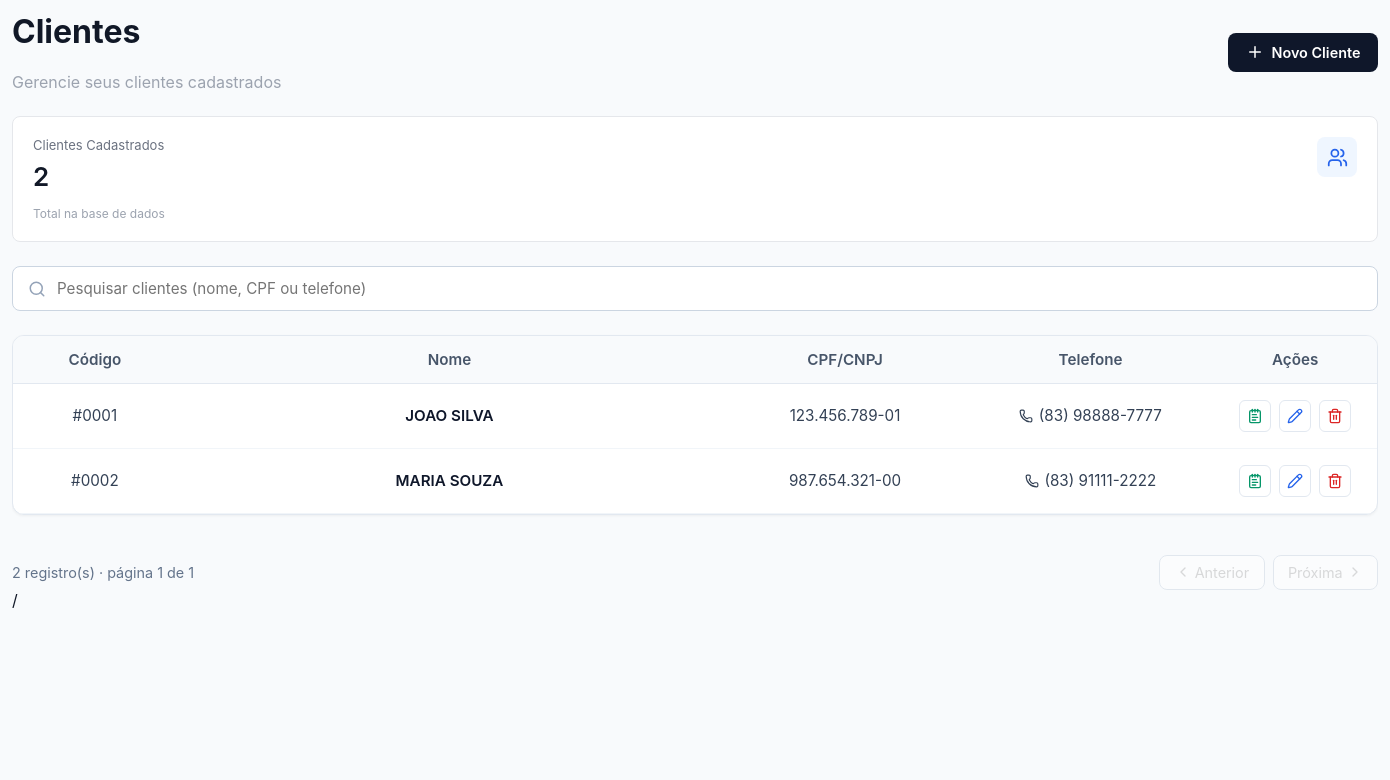
Test: Página de Clientes › listagem › busca no servidor com o termo digitado e mostra mensagem quando nada é encontrado
The width and height of the screenshot is (1390, 780).
Expected: the text "JOAO SILVA" is shown, [405,406,494,425]
In the field with placeholder "Pesquisar clientes (nome, CPF ou telefone)": (695, 289) [12,266,1378,311], type "zzz"
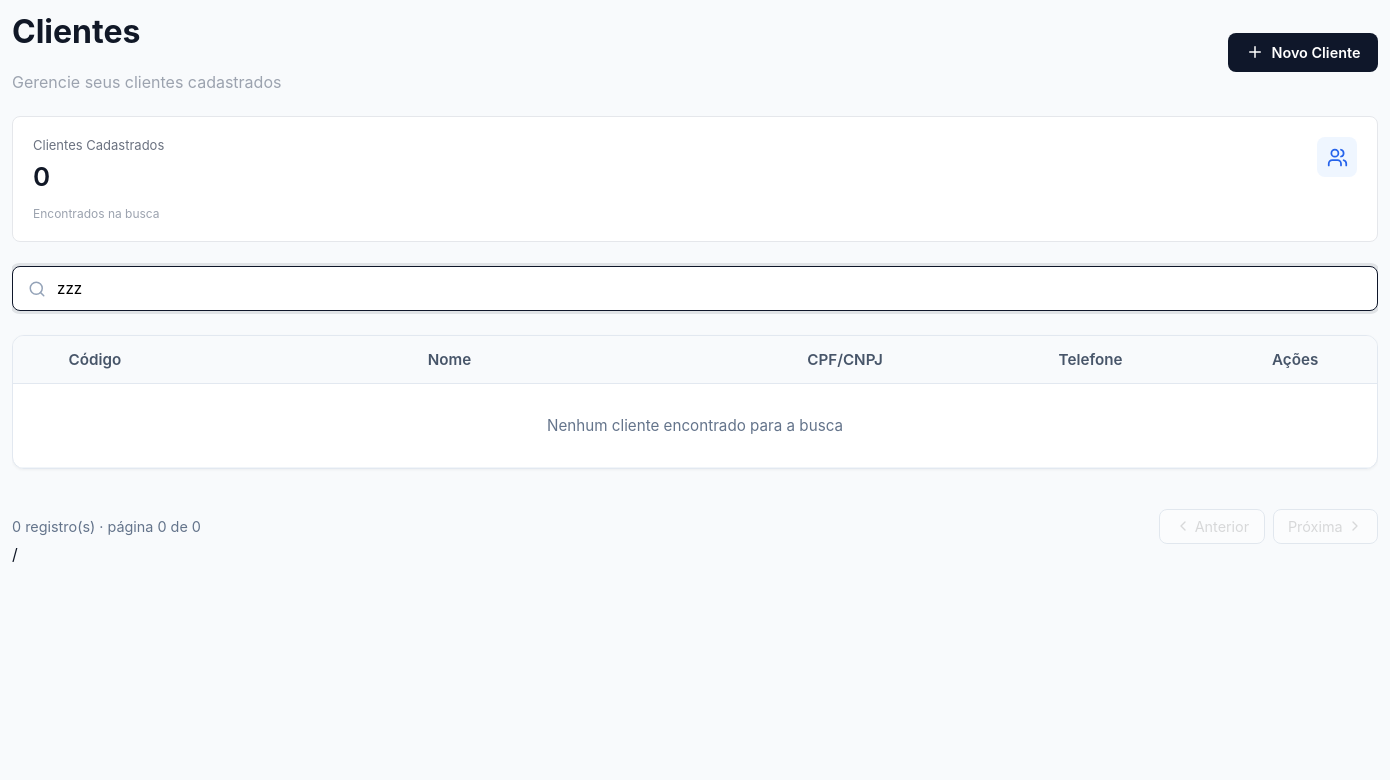
Result: the text "Nenhum cliente encontrado para a busca" is shown at [13,383,1377,467]
Result: the text "Encontrados na busca" is shown at [33,206,160,221]
